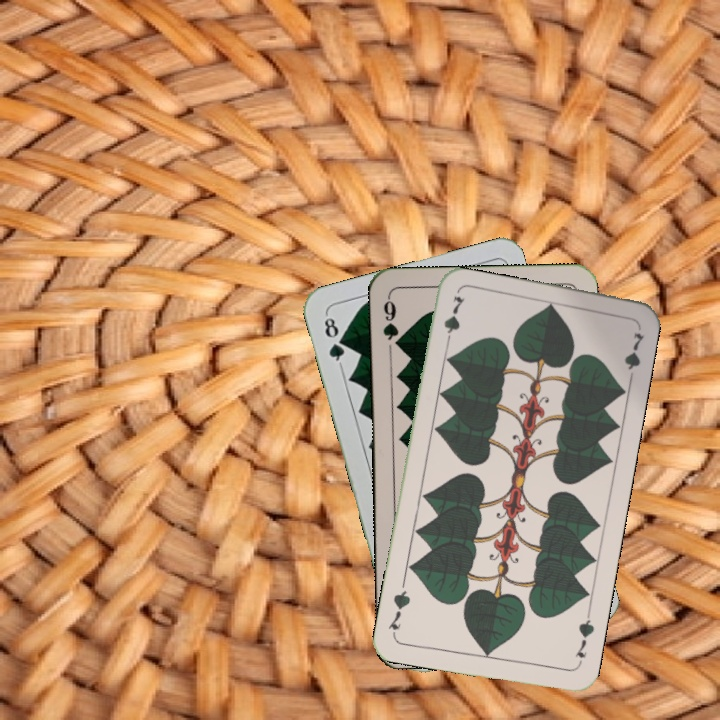G7: (439, 292, 468, 351), (571, 610, 597, 668)
G8: (320, 310, 348, 369)
G9: (379, 293, 404, 352)
